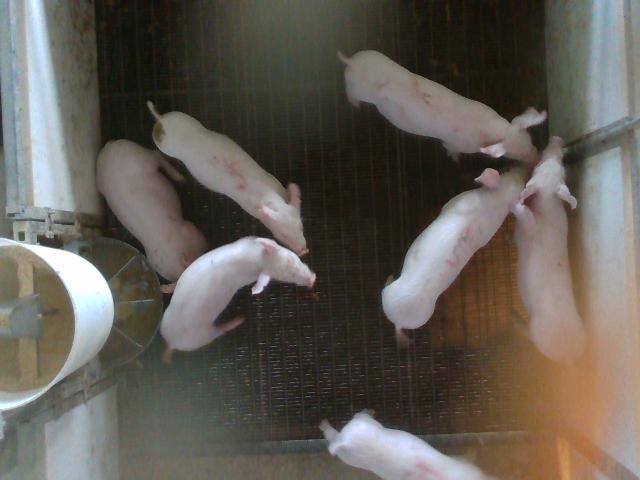pig-3: (381, 168, 534, 338)
pig-4: (320, 410, 490, 479)
pig-5: (148, 101, 308, 256)
